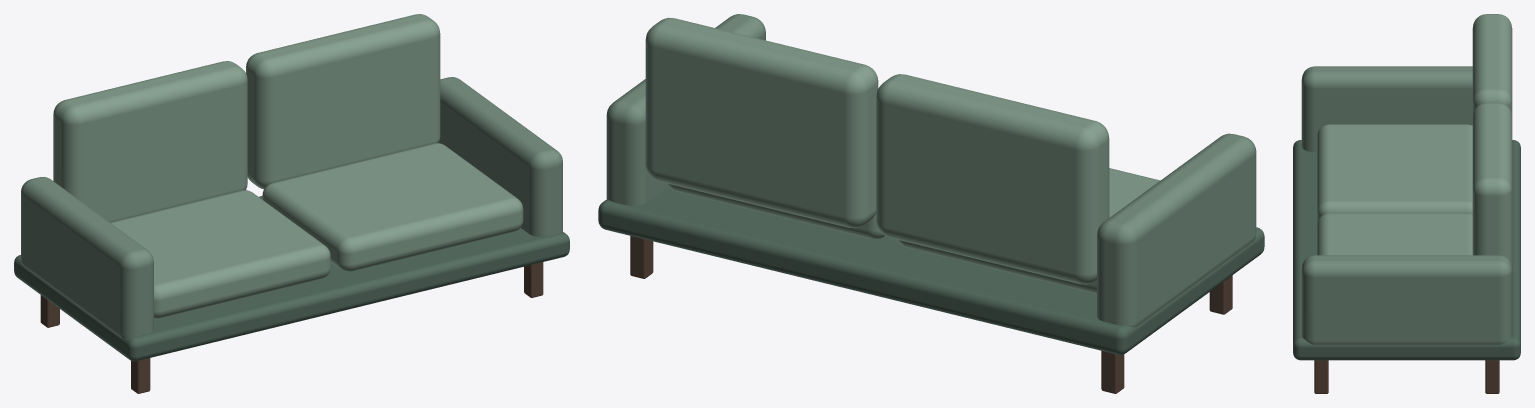
The picture shows the model from 3 angles, left to right: view 1: azimuth 30°, elevation 25°; view 2: azimuth 150°, elevation 25°; view 3: azimuth 270°, elevation 25°; orthographic projection. The views are drawn at different scales.
Parts seen in each view (by area): view 1: back-right, back-left, seat-right, base, seat-left, arm-left, arm-right, leg-left-front, leg-right-front, leg-left-rear; view 2: back-right, back-left, base, arm-left, arm-right, seat-left, seat-right, leg-left-rear, leg-right-rear, leg-left-front; view 3: arm-right, seat-left, arm-left, base, seat-right, back-right, back-left, leg-right-front, leg-right-rear.
Part boxes in pixels (x1=…): back-right: x1=246, y1=14, x2=440, y2=189; back-left: x1=53, y1=61, x2=247, y2=222; seat-right: x1=262, y1=143, x2=523, y2=271; base: x1=14, y1=196, x2=569, y2=361; seat-left: x1=110, y1=190, x2=330, y2=318; arm-left: x1=21, y1=177, x2=153, y2=338; arm-right: x1=438, y1=77, x2=562, y2=236; leg-left-front: x1=131, y1=358, x2=150, y2=393; leg-right-front: x1=524, y1=262, x2=543, y2=297; leg-left-rear: x1=40, y1=295, x2=59, y2=327; back-right: x1=645, y1=17, x2=878, y2=228; back-left: x1=876, y1=74, x2=1109, y2=284; base: x1=598, y1=186, x2=1264, y2=354; arm-left: x1=1097, y1=133, x2=1256, y2=327; arm-right: x1=606, y1=14, x2=765, y2=205; seat-left: x1=898, y1=168, x2=1160, y2=293; seat-right: x1=667, y1=183, x2=884, y2=239; leg-left-rear: x1=1101, y1=351, x2=1124, y2=393; leg-right-rear: x1=630, y1=236, x2=653, y2=278; leg-left-front: x1=1209, y1=275, x2=1232, y2=314; arm-right: x1=1301, y1=255, x2=1512, y2=344; seat-left: x1=1317, y1=124, x2=1472, y2=222; arm-left: x1=1301, y1=66, x2=1472, y2=152; base: x1=1293, y1=140, x2=1520, y2=360; seat-right: x1=1317, y1=213, x2=1472, y2=255; back-right: x1=1472, y1=103, x2=1512, y2=267; back-left: x1=1472, y1=14, x2=1512, y2=116; leg-right-front: x1=1314, y1=360, x2=1328, y2=393; leg-right-rear: x1=1485, y1=360, x2=1499, y2=393.
Size of the model in its own units: 2.2 by 1.03 by 1.04.
